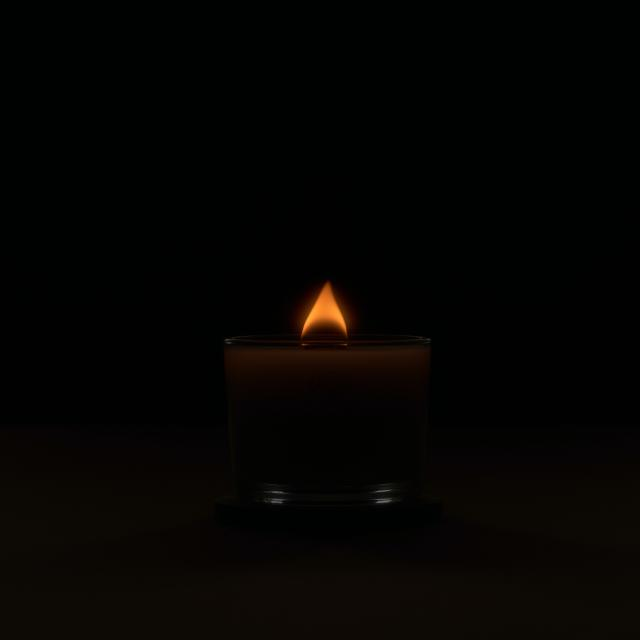fire: (300, 277, 352, 341)
